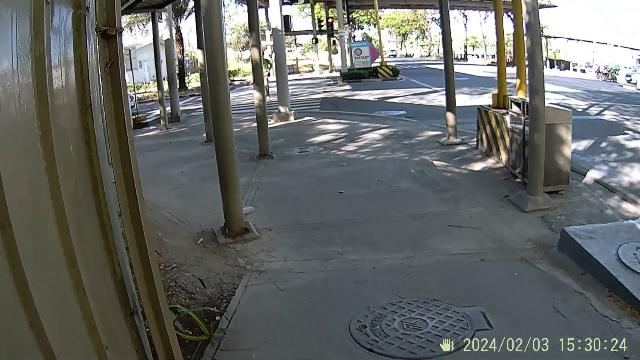garbage: (500, 91, 580, 195)
lamp_post: (258, 0, 310, 124)
utility_post: (197, 0, 250, 246), (517, 0, 557, 212), (438, 0, 467, 148)
